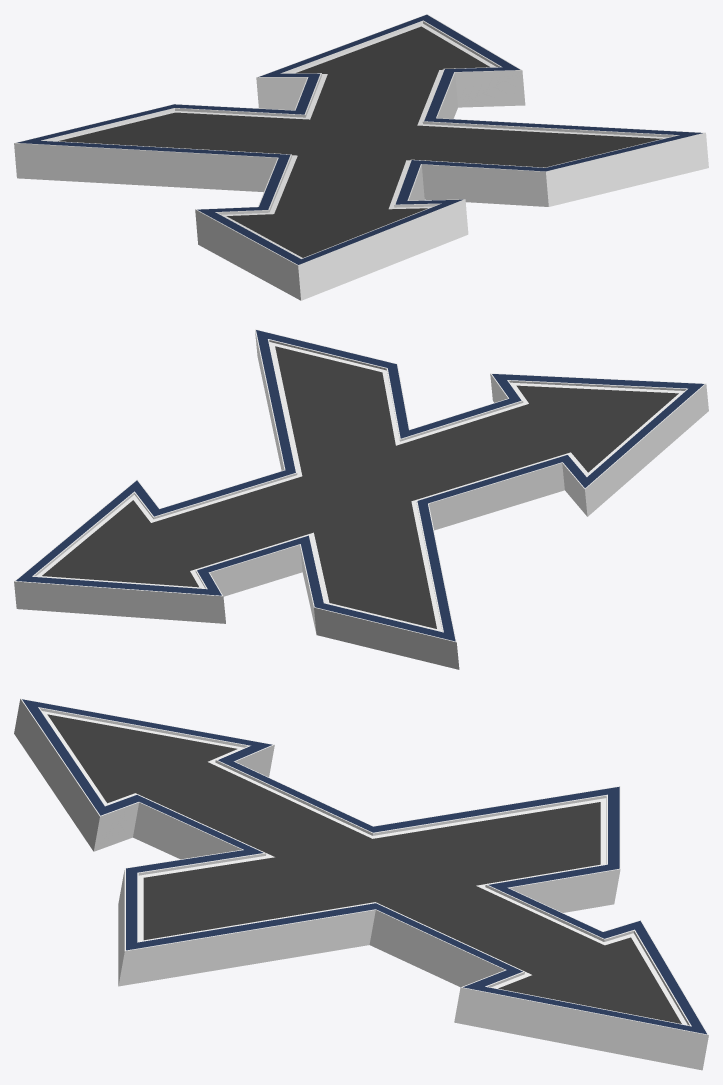
File: TrainDeco.dae
3 renders of one model, top to bottom at view 1: azimuth 30°, elevation 25°; view 2: azimuth 150°, elevation 25°; view 3: azimuth 270°, elevation 25°, orthographic. The views are drawn at different scales.
Parts seen in each view (by area): view 1: Component_1 (×5); view 2: Component_1 (×5); view 3: Component_1 (×5).
Boxes of the visible parts, left/top/right/bottom form: Component_1 (×5): left=14, top=14, right=708, bottom=300; Component_1 (×5): left=14, top=329, right=708, bottom=669; Component_1 (×5): left=14, top=698, right=708, bottom=1070.
Size of the model in its own units: 19.75 by 24.32 by 5.29.
